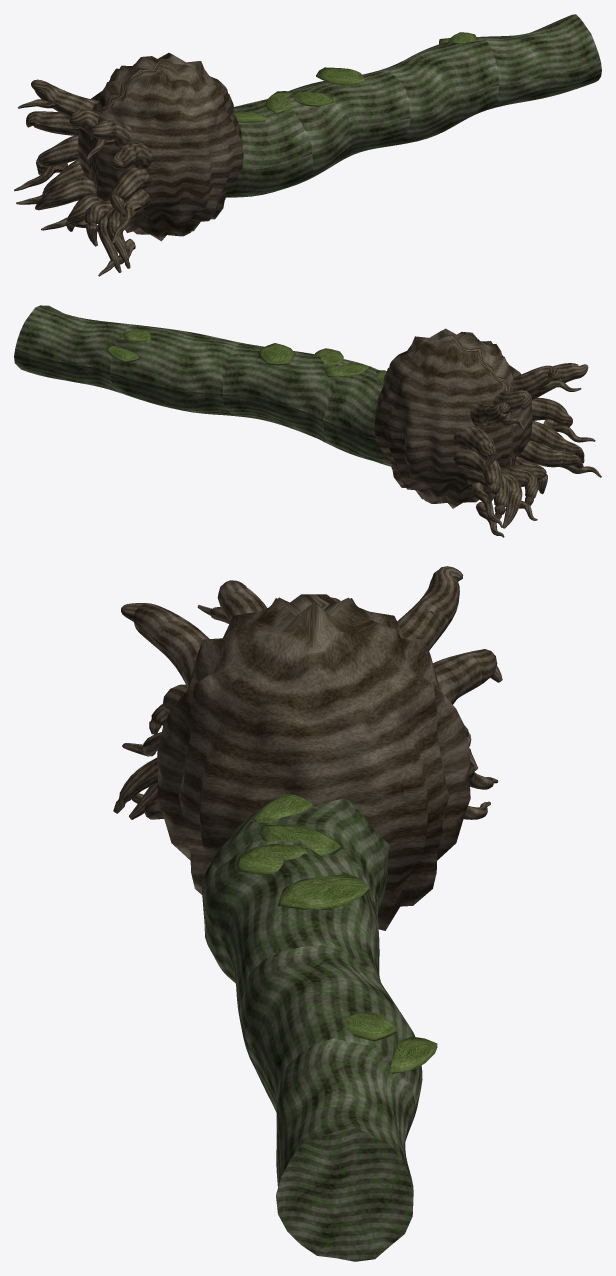
File: PZ_FallenWood_04_Uprooted_TreeRootball_3p0m.glb
The picture shows the model from 3 angles, top to bottom: view 1: azimuth 30°, elevation 25°; view 2: azimuth 150°, elevation 25°; view 3: azimuth 270°, elevation 25°; orthographic projection. The views are drawn at different scales.
Parts seen in each view (by area): view 1: 04_Uprooted_TreeRootball_3p0m_Trunk_MESH, 04_Uprooted_TreeRootball_3p0m_RootBallMass_MESH, 04_Uprooted_TreeRootball_3p0m_RootFinger_02_MESH, 04_Uprooted_TreeRootball_3p0m_RootFinger_06_MESH, 04_Uprooted_TreeRootball_3p0m_RootFinger_11_MESH, 04_Uprooted_TreeRootball_3p0m_RootFinger_07_MESH, 04_Uprooted_TreeRootball_3p0m_RootFinger_00_MESH, 04_Uprooted_TreeRootball_3p0m_RootFinger_01_MESH, 04_Uprooted_TreeRootball_3p0m_RootFinger_05_MESH, 04_Uprooted_TreeRootball_3p0m_RootFinger_04_MESH, 04_Uprooted_TreeRootball_3p0m_MossClump_01_MESH, 04_Uprooted_TreeRootball_3p0m_RootFinger_08_MESH (+8 smaller); view 2: 04_Uprooted_TreeRootball_3p0m_Trunk_MESH, 04_Uprooted_TreeRootball_3p0m_RootBallMass_MESH, 04_Uprooted_TreeRootball_3p0m_RootFinger_08_MESH, 04_Uprooted_TreeRootball_3p0m_RootFinger_00_MESH, 04_Uprooted_TreeRootball_3p0m_RootFinger_01_MESH, 04_Uprooted_TreeRootball_3p0m_RootFinger_07_MESH, 04_Uprooted_TreeRootball_3p0m_RootFinger_04_MESH, 04_Uprooted_TreeRootball_3p0m_RootFinger_02_MESH, 04_Uprooted_TreeRootball_3p0m_RootFinger_06_MESH, 04_Uprooted_TreeRootball_3p0m_RootFinger_12_MESH, 04_Uprooted_TreeRootball_3p0m_RootFinger_11_MESH, 04_Uprooted_TreeRootball_3p0m_RootFinger_10_MESH (+9 smaller); view 3: 04_Uprooted_TreeRootball_3p0m_RootBallMass_MESH, 04_Uprooted_TreeRootball_3p0m_Trunk_MESH, 04_Uprooted_TreeRootball_3p0m_RootFinger_05_MESH, 04_Uprooted_TreeRootball_3p0m_RootFinger_02_MESH, 04_Uprooted_TreeRootball_3p0m_MossClump_01_MESH, 04_Uprooted_TreeRootball_3p0m_RootFinger_01_MESH, 04_Uprooted_TreeRootball_3p0m_MossClump_02_MESH, 04_Uprooted_TreeRootball_3p0m_MossClump_04_MESH, 04_Uprooted_TreeRootball_3p0m_RootFinger_04_MESH, 04_Uprooted_TreeRootball_3p0m_MossClump_00_MESH, 04_Uprooted_TreeRootball_3p0m_MossClump_05_MESH, 04_Uprooted_TreeRootball_3p0m_RootFinger_07_MESH (+1 smaller).
Part boxes in pixels (x1=…): 04_Uprooted_TreeRootball_3p0m_Trunk_MESH: x1=225, y1=14, x2=601, y2=197; 04_Uprooted_TreeRootball_3p0m_RootBallMass_MESH: x1=78, y1=53, x2=243, y2=241; 04_Uprooted_TreeRootball_3p0m_RootFinger_02_MESH: x1=31, y1=79, x2=99, y2=117; 04_Uprooted_TreeRootball_3p0m_RootFinger_06_MESH: x1=110, y1=167, x2=153, y2=217; 04_Uprooted_TreeRootball_3p0m_RootFinger_11_MESH: x1=35, y1=177, x2=95, y2=210; 04_Uprooted_TreeRootball_3p0m_RootFinger_07_MESH: x1=106, y1=189, x2=150, y2=268; 04_Uprooted_TreeRootball_3p0m_RootFinger_00_MESH: x1=36, y1=136, x2=78, y2=174; 04_Uprooted_TreeRootball_3p0m_RootFinger_01_MESH: x1=26, y1=111, x2=79, y2=136; 04_Uprooted_TreeRootball_3p0m_RootFinger_05_MESH: x1=111, y1=142, x2=152, y2=169; 04_Uprooted_TreeRootball_3p0m_RootFinger_04_MESH: x1=90, y1=120, x2=132, y2=147; 04_Uprooted_TreeRootball_3p0m_MossClump_01_MESH: x1=316, y1=67, x2=366, y2=85; 04_Uprooted_TreeRootball_3p0m_RootFinger_08_MESH: x1=97, y1=207, x2=145, y2=272; 04_Uprooted_TreeRootball_3p0m_Trunk_MESH: x1=14, y1=305, x2=391, y2=466; 04_Uprooted_TreeRootball_3p0m_RootBallMass_MESH: x1=374, y1=328, x2=532, y2=508; 04_Uprooted_TreeRootball_3p0m_RootFinger_08_MESH: x1=519, y1=440, x2=583, y2=468; 04_Uprooted_TreeRootball_3p0m_RootFinger_00_MESH: x1=453, y1=450, x2=501, y2=503; 04_Uprooted_TreeRootball_3p0m_RootFinger_01_MESH: x1=453, y1=426, x2=496, y2=467; 04_Uprooted_TreeRootball_3p0m_RootFinger_07_MESH: x1=529, y1=421, x2=584, y2=463; 04_Uprooted_TreeRootball_3p0m_RootFinger_04_MESH: x1=510, y1=365, x2=559, y2=394; 04_Uprooted_TreeRootball_3p0m_RootFinger_02_MESH: x1=470, y1=402, x2=510, y2=426; 04_Uprooted_TreeRootball_3p0m_RootFinger_06_MESH: x1=531, y1=397, x2=572, y2=427; 04_Uprooted_TreeRootball_3p0m_RootFinger_12_MESH: x1=466, y1=470, x2=509, y2=522; 04_Uprooted_TreeRootball_3p0m_RootFinger_11_MESH: x1=469, y1=470, x2=522, y2=528; 04_Uprooted_TreeRootball_3p0m_RootFinger_10_MESH: x1=502, y1=466, x2=538, y2=505; 04_Uprooted_TreeRootball_3p0m_RootBallMass_MESH: x1=157, y1=594, x2=470, y2=930; 04_Uprooted_TreeRootball_3p0m_Trunk_MESH: x1=202, y1=798, x2=422, y2=1261; 04_Uprooted_TreeRootball_3p0m_RootFinger_05_MESH: x1=121, y1=603, x2=209, y2=687; 04_Uprooted_TreeRootball_3p0m_RootFinger_02_MESH: x1=397, y1=566, x2=463, y2=650; 04_Uprooted_TreeRootball_3p0m_MossClump_01_MESH: x1=277, y1=874, x2=369, y2=909; 04_Uprooted_TreeRootball_3p0m_RootFinger_01_MESH: x1=433, y1=649, x2=502, y2=704; 04_Uprooted_TreeRootball_3p0m_MossClump_02_MESH: x1=236, y1=843, x2=307, y2=874; 04_Uprooted_TreeRootball_3p0m_MossClump_04_MESH: x1=259, y1=824, x2=340, y2=855; 04_Uprooted_TreeRootball_3p0m_RootFinger_04_MESH: x1=217, y1=580, x2=266, y2=623; 04_Uprooted_TreeRootball_3p0m_MossClump_00_MESH: x1=390, y1=1036, x2=437, y2=1073; 04_Uprooted_TreeRootball_3p0m_MossClump_05_MESH: x1=345, y1=1013, x2=396, y2=1041; 04_Uprooted_TreeRootball_3p0m_RootFinger_07_MESH: x1=113, y1=757, x2=158, y2=813.
Size of the model in its own units: 3.55 by 1.09 by 1.15.
Materials: 3 (3 with a texture image).
